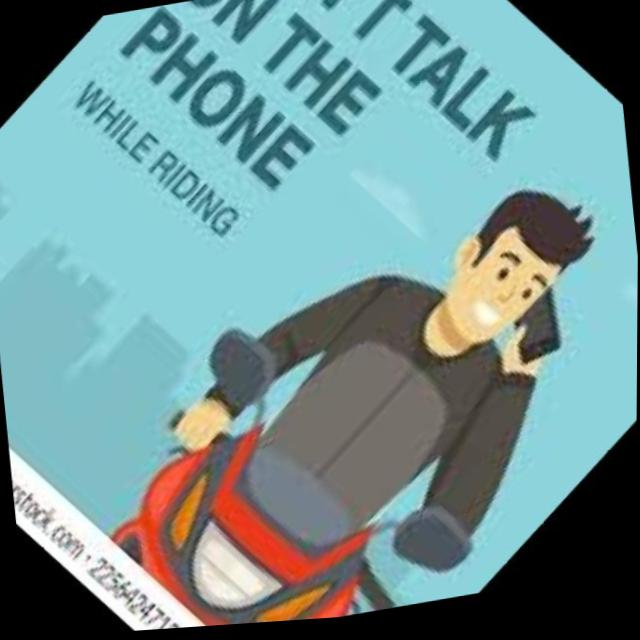USING_MOBILE: (365, 274, 638, 558)
